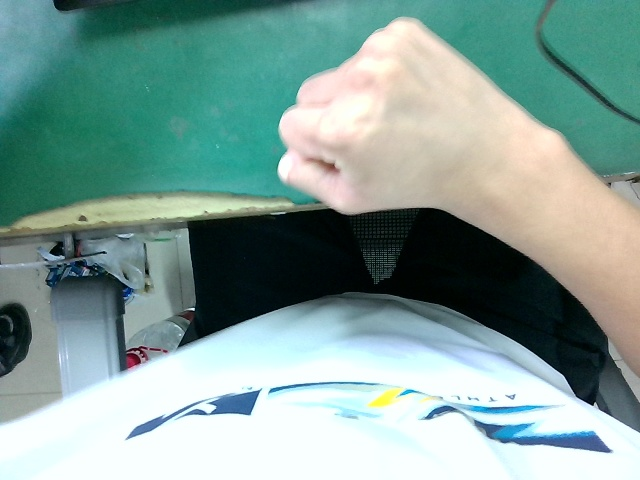stone: (270, 6, 569, 280)
